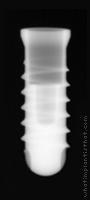Leone: (20, 28, 71, 178)
